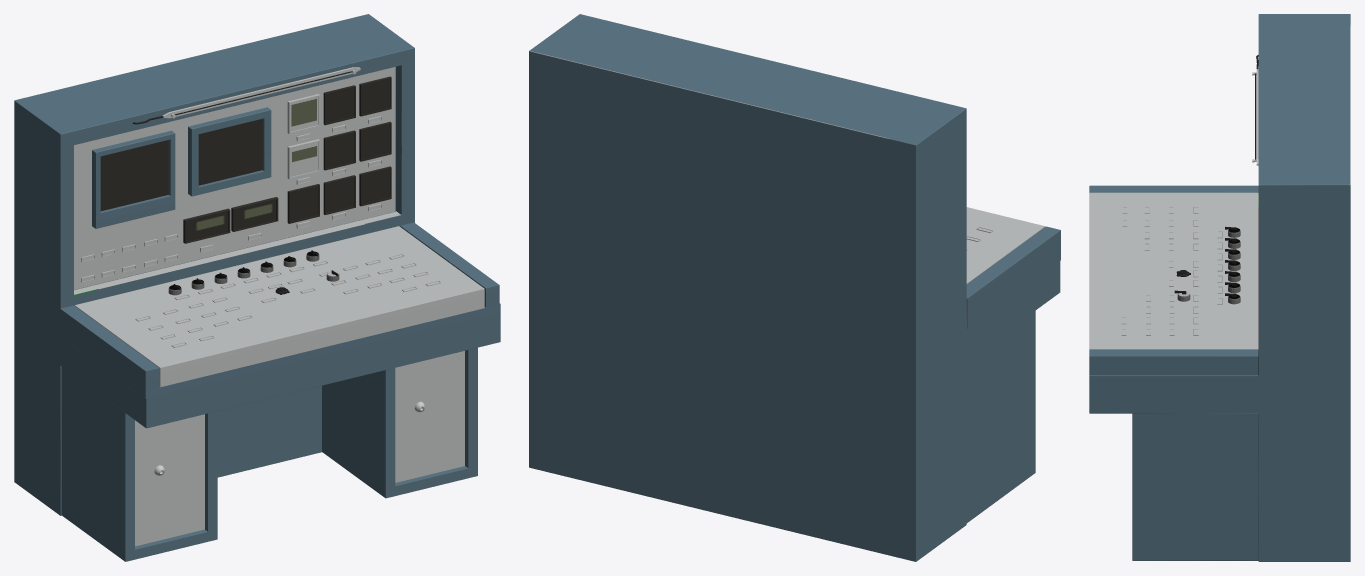
Rendered from pop.FBX.
The picture shows the model from 3 angles, left to right: view 1: azimuth 30°, elevation 25°; view 2: azimuth 150°, elevation 25°; view 3: azimuth 270°, elevation 25°; orthographic projection. The views are drawn at different scales.
Parts seen in each view (by area): view 1: Box001, Box004, Box180, Box006, 对象021, 对象001, Box002, 对象003, 对象004, Box008, Box009, Box003 (+12 smaller); view 2: Box001, Box180, Box002, Box004; view 3: Box001, Box004, Box006, Box003, Box002.
Part boxes in pixels (x1=…): Box001: x1=14, y1=14, x2=500, y2=515; Box004: x1=74, y1=226, x2=484, y2=387; Box180: x1=61, y1=367, x2=217, y2=561; Box006: x1=322, y1=347, x2=477, y2=498; 对象021: x1=135, y1=414, x2=204, y2=546; 对象001: x1=395, y1=351, x2=464, y2=482; Box002: x1=60, y1=305, x2=159, y2=398; 对象003: x1=100, y1=140, x2=168, y2=211; 对象004: x1=198, y1=119, x2=262, y2=185; Box008: x1=92, y1=130, x2=175, y2=228; Box009: x1=188, y1=107, x2=271, y2=196; Box003: x1=400, y1=222, x2=499, y2=307; Box001: x1=529, y1=14, x2=1060, y2=561; Box180: x1=966, y1=310, x2=1035, y2=522; Box002: x1=966, y1=226, x2=1060, y2=328; Box004: x1=966, y1=207, x2=1044, y2=283; Box001: x1=1089, y1=14, x2=1350, y2=561; Box004: x1=1089, y1=192, x2=1258, y2=349; Box006: x1=1132, y1=413, x2=1258, y2=560; Box003: x1=1089, y1=349, x2=1258, y2=375; Box002: x1=1089, y1=185, x2=1258, y2=192.
Bounding box in the file's own units: 249 × 255 × 160.
Materials: 1 (1 with a texture image).
